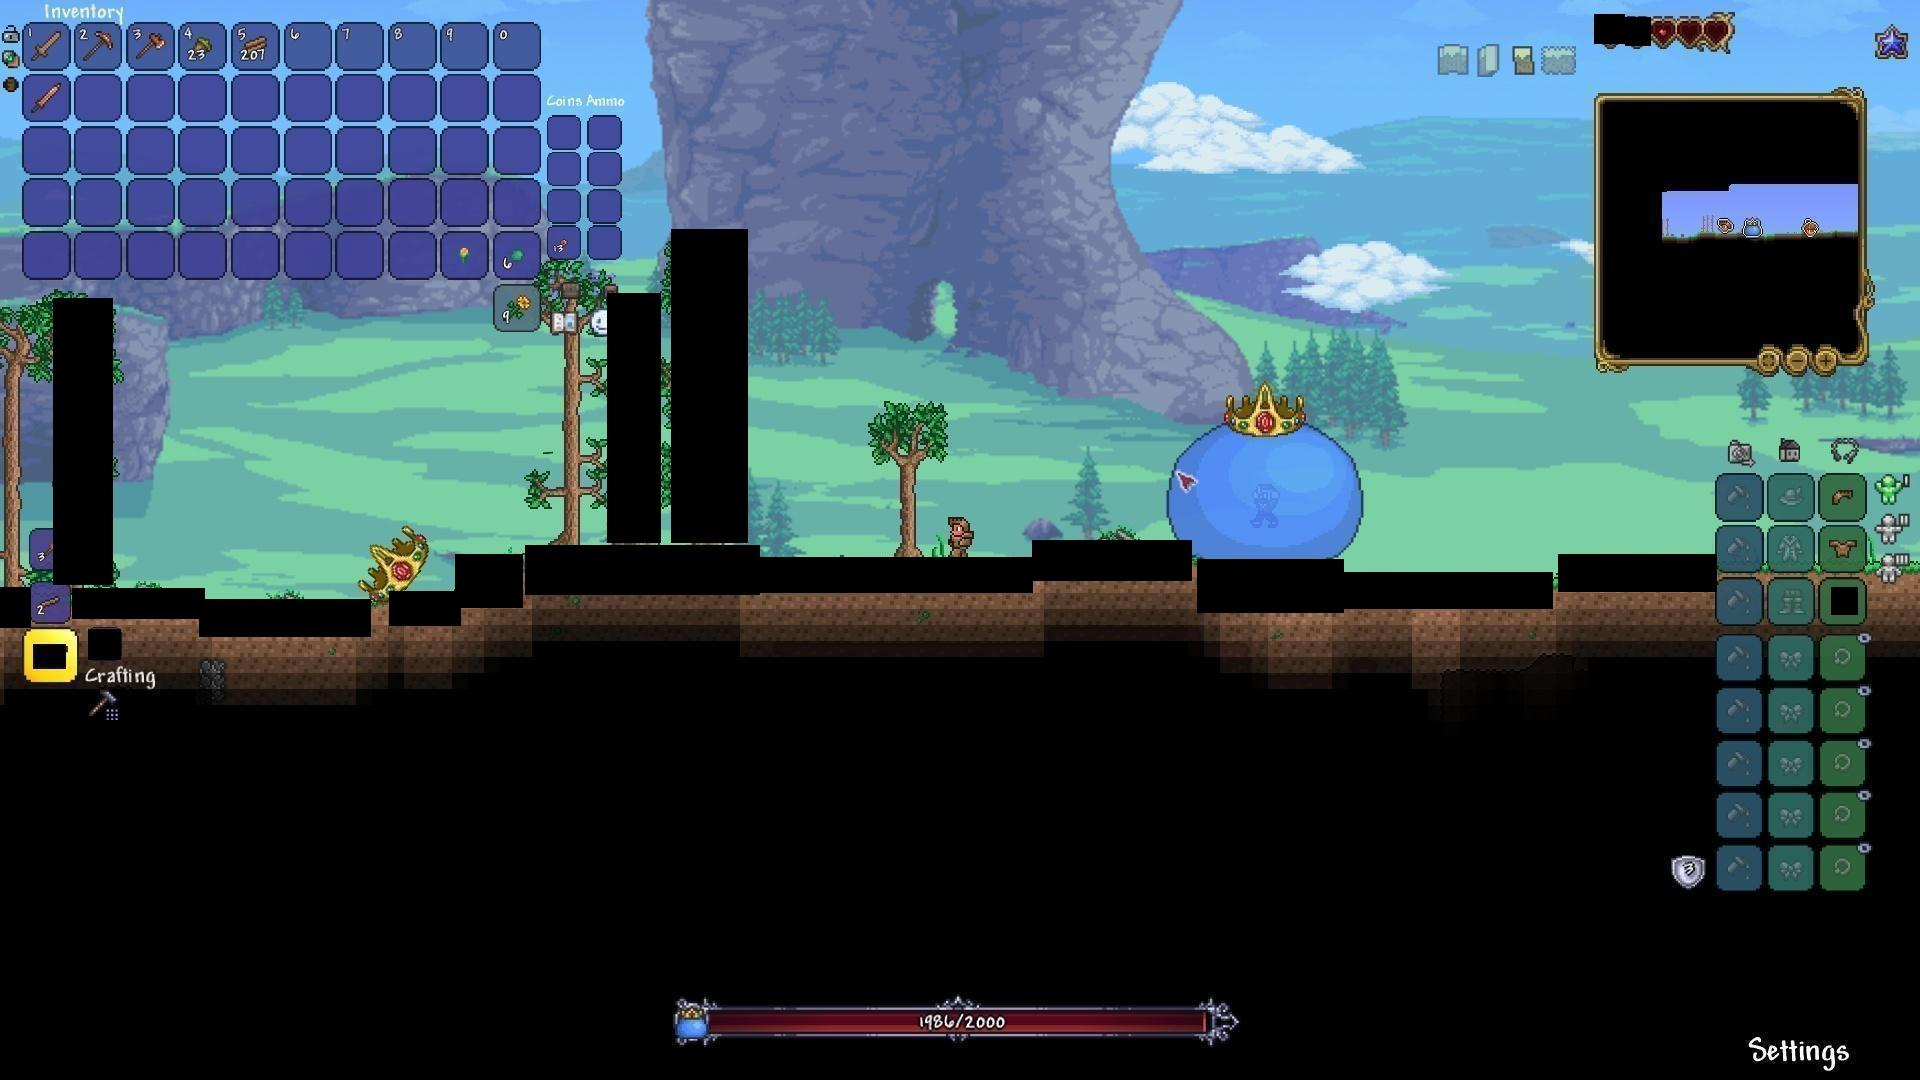breastplate: (1830, 537, 1859, 558)
helmet: (1829, 485, 1857, 509)
tree: (539, 272, 604, 543), (870, 384, 939, 554), (0, 318, 30, 587)
wood: (243, 33, 269, 59)
